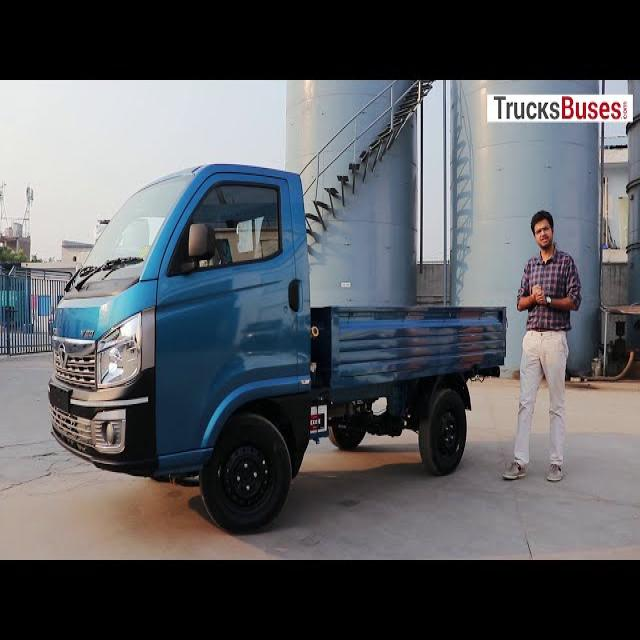truck: (49, 165, 505, 532)
